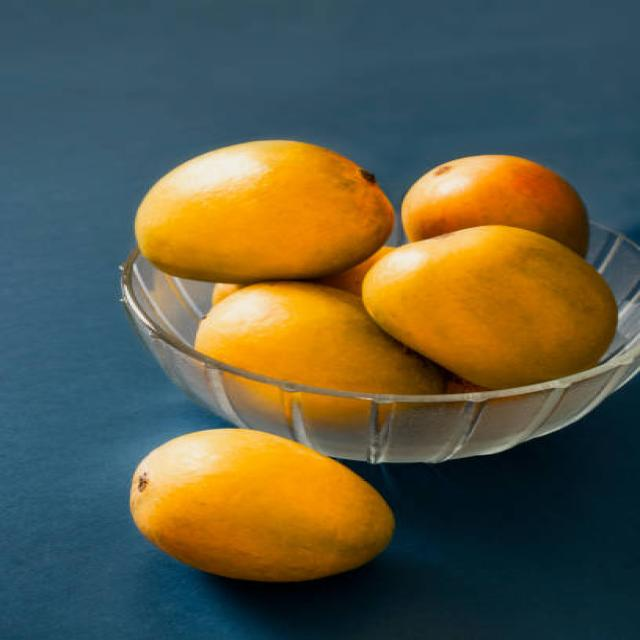mango: (362, 225, 617, 388), (131, 429, 394, 581), (135, 141, 394, 284), (195, 281, 444, 394), (401, 155, 587, 256)
